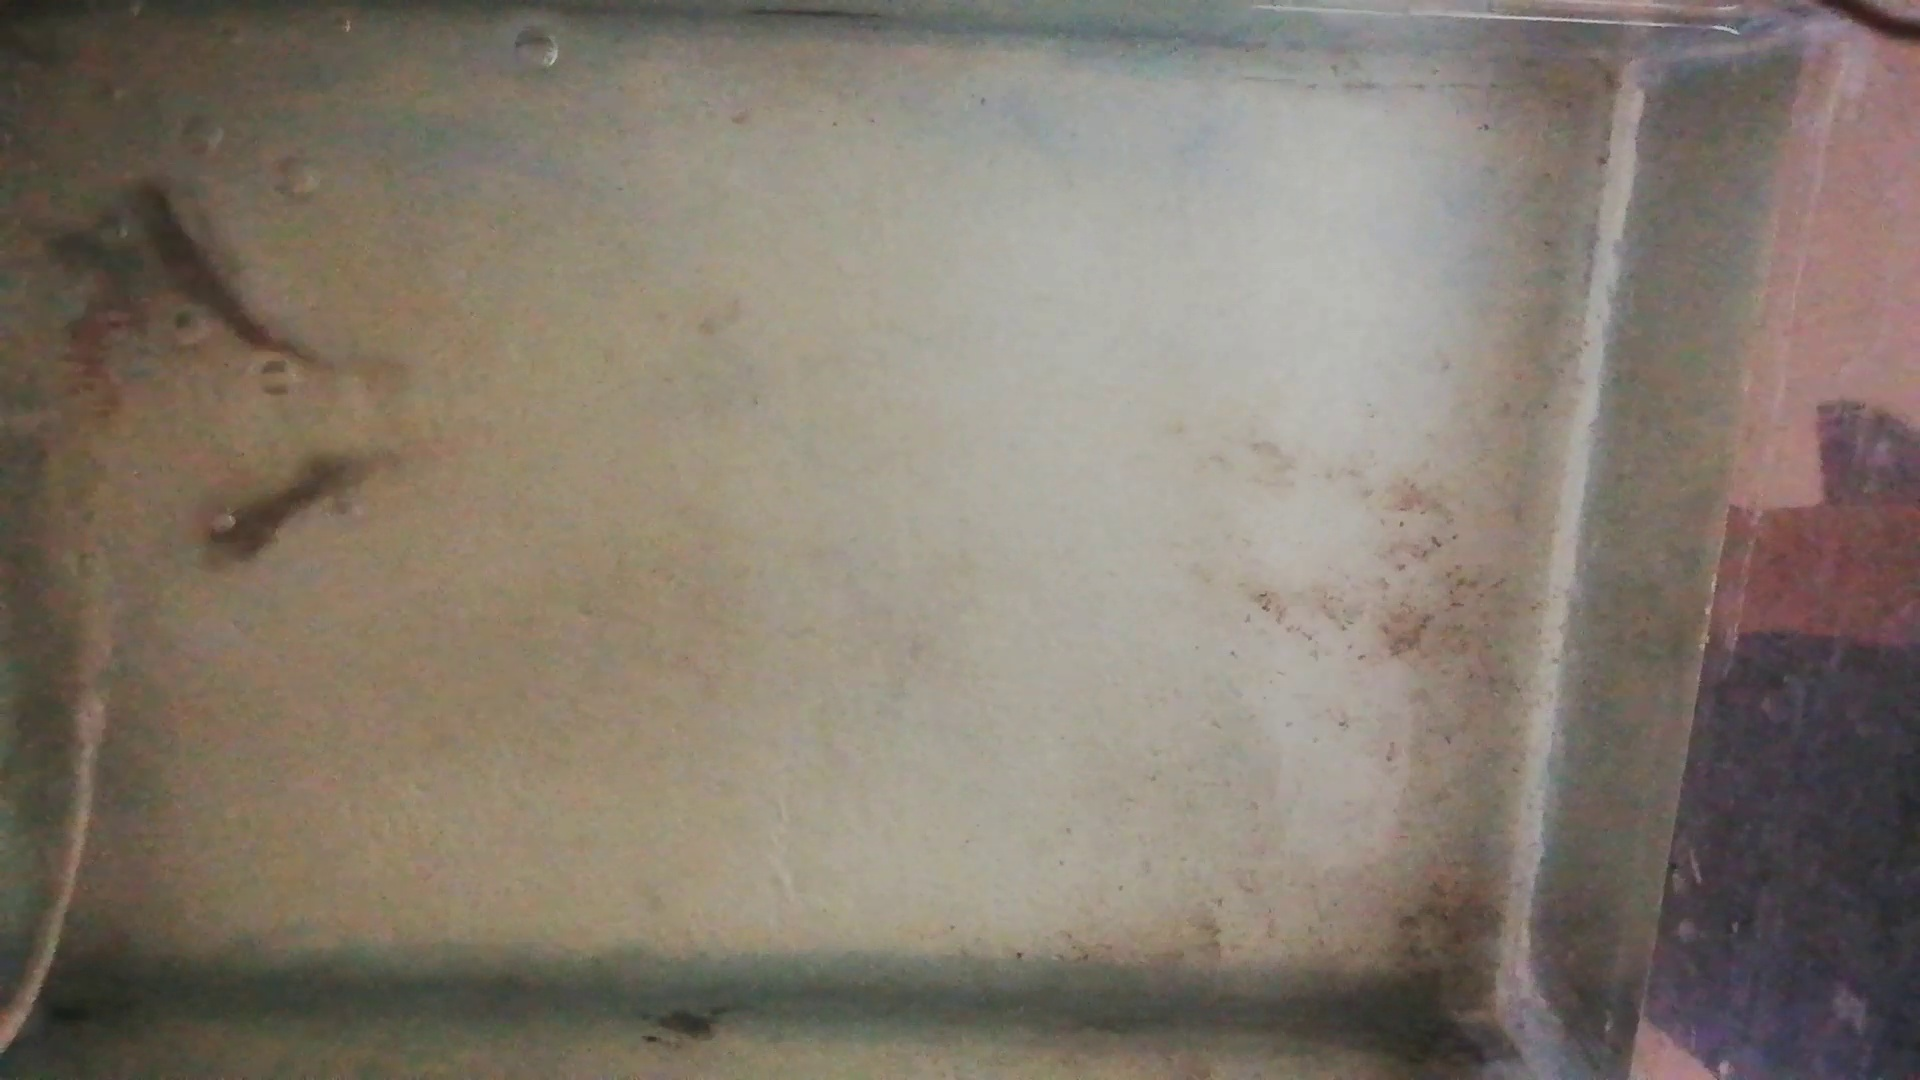fish: (123, 175, 319, 365), (202, 458, 372, 564)
